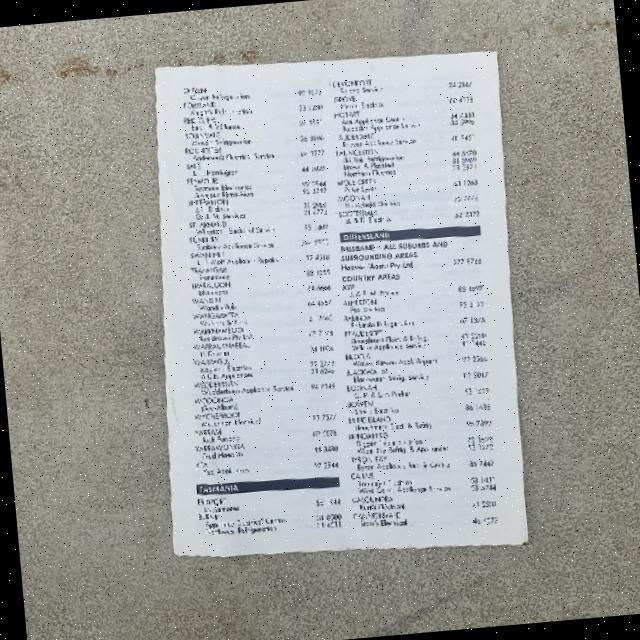paper: (130, 36, 539, 573)
